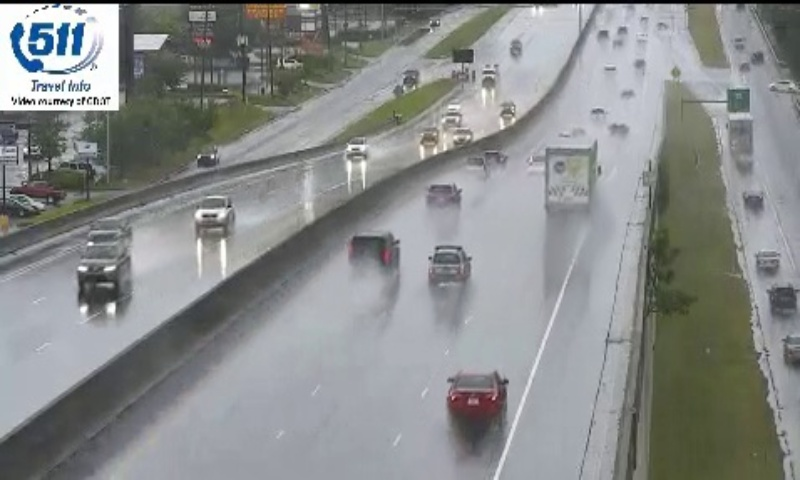car: (446, 369, 507, 419), (348, 232, 398, 272), (430, 245, 470, 286), (426, 183, 460, 211)
small-truck: (545, 137, 595, 211)
